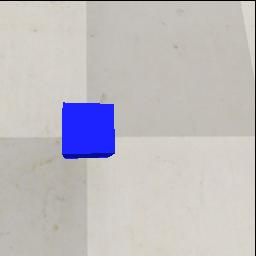box: (62, 102, 116, 159)
